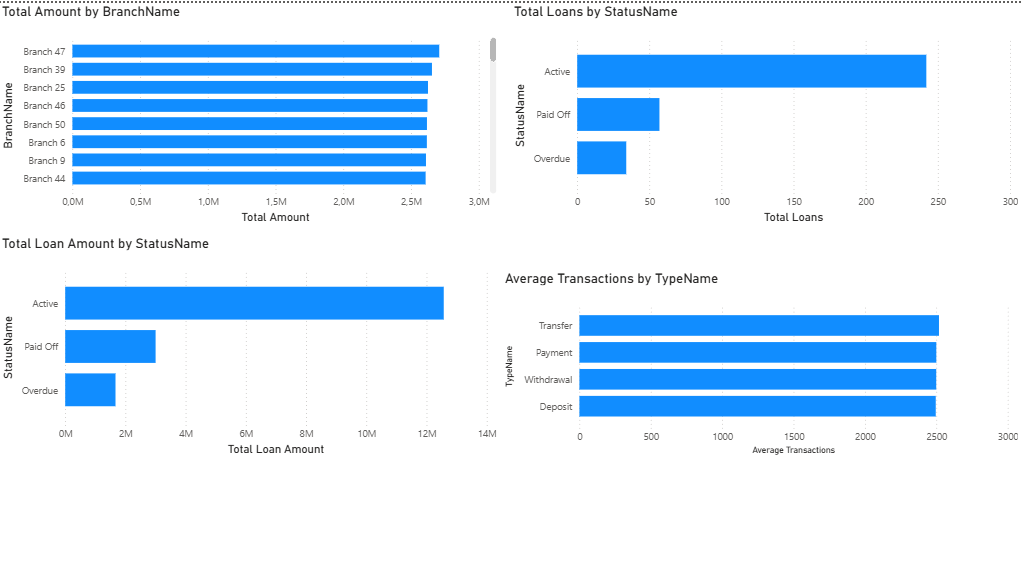

The dashboard page shown, as its layout file describes it:
{"tool":"powerbi","page":{"name":"Loans","canvas":[1280,720],"ordinal":3},"visuals":[{"type":"clusteredBarChart","fields":{"Category":["branches.BranchName"],"Y":["transactions.Total Amount"]},"box":[0,0,628,280],"z":0},{"type":"clusteredBarChart","fields":{"Category":["loan_statuses.StatusName"],"Y":["loans.Total Loan Amount"]},"box":[0,290,628,280],"z":1},{"type":"clusteredBarChart","fields":{"Category":["loan_statuses.StatusName"],"Y":["loans.Total Loans"]},"box":[640,0,640,280],"z":2},{"type":"clusteredBarChart","fields":{"Category":["transaction_types.TypeName"],"Y":["transactions.Average Transactions"]},"box":[628.6,334.3,651.4,235.7],"z":3}]}

Visuals, with their boxes in screenshot pixels (x1, y1, x2, y2), scaled from the page's 1280x720 canvas onto the 1022x578 screenshot:
clusteredBarChart - branches.BranchName x transactions.Total Amount: [left=0, top=0, right=501, bottom=225]
clusteredBarChart - loan_statuses.StatusName x loans.Total Loan Amount: [left=0, top=233, right=501, bottom=458]
clusteredBarChart - loan_statuses.StatusName x loans.Total Loans: [left=511, top=0, right=1021, bottom=225]
clusteredBarChart - transaction_types.TypeName x transactions.Average Transactions: [left=502, top=268, right=1021, bottom=458]
